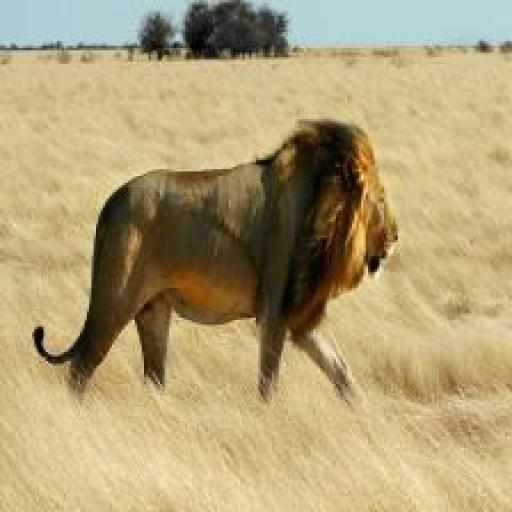lion: (41, 130, 382, 450)
